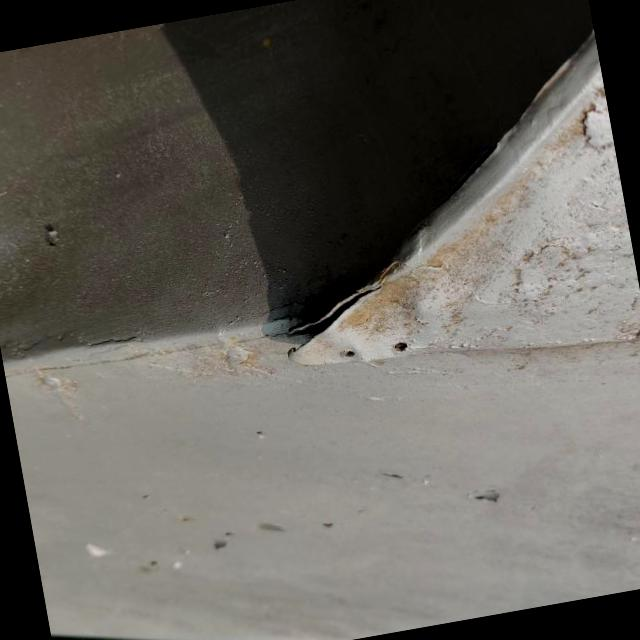crack: (259, 264, 395, 364)
